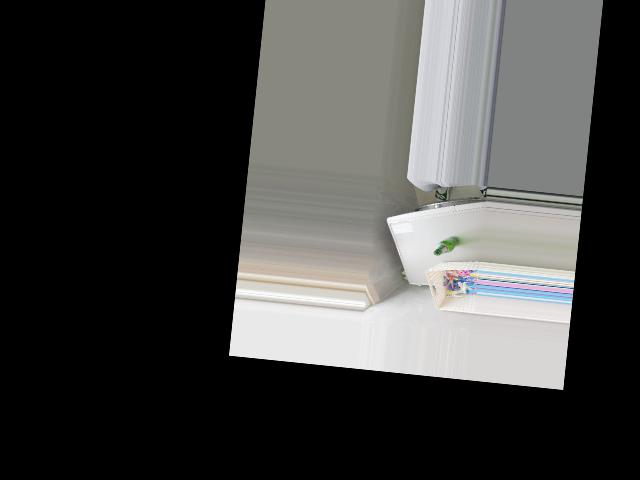beer: (433, 234, 459, 257)
